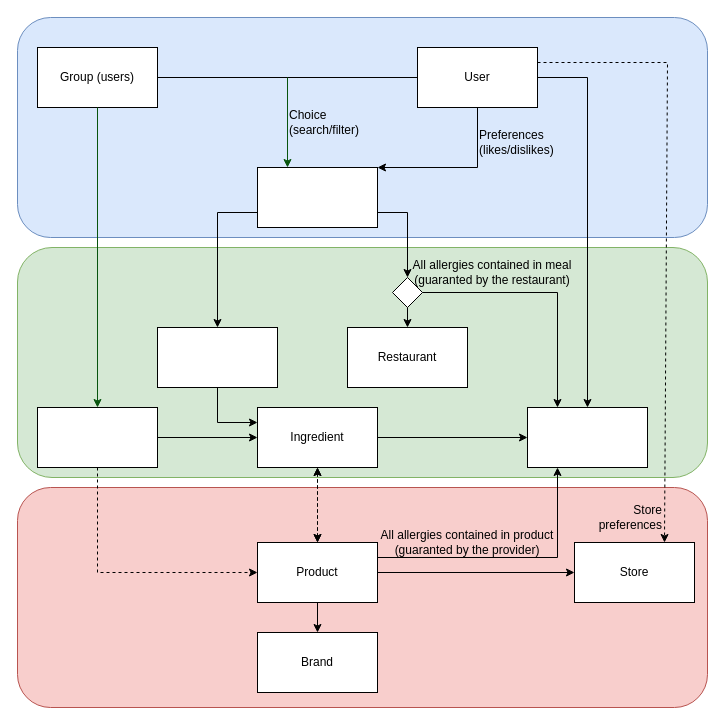
The diagram is 725 pixels wide and 725 high, and some of its shapes have lost their labels. Each missing label, with the centre of its shape:
Allergies and food preferences (eg. vegan): the point at 587,437
Meal: the point at 317,197
Recipe: the point at 217,357
Shopping list: the point at 97,437
